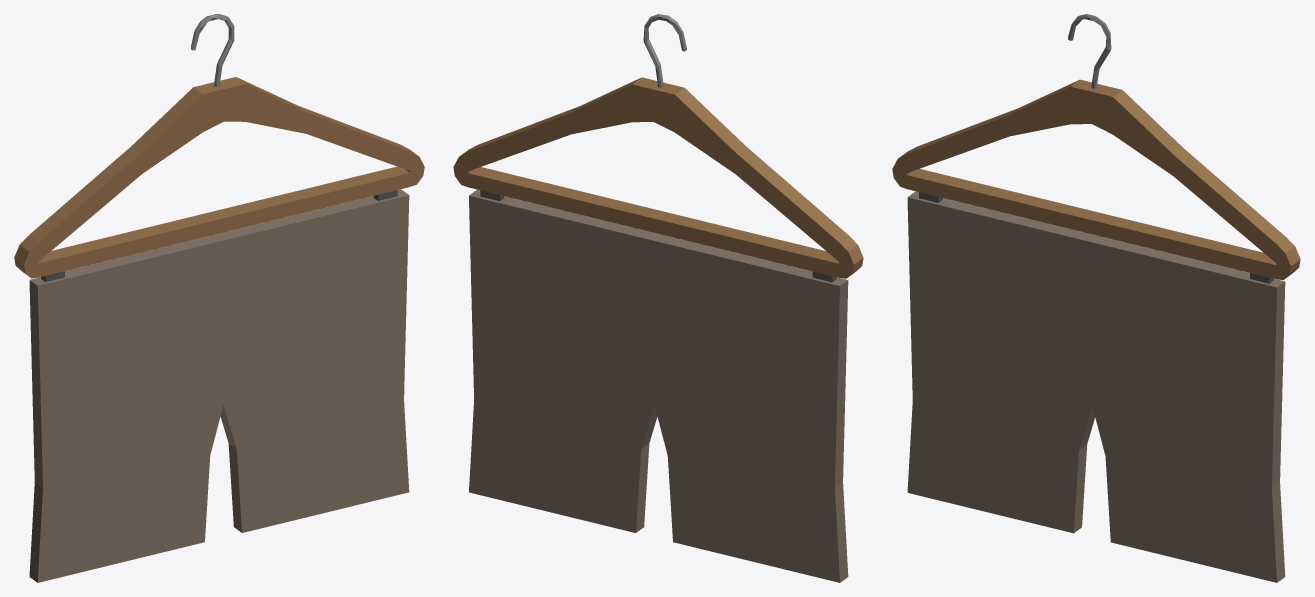
Rendered from Clothes8_C4.fbx.
The picture shows the model from 3 angles, left to right: view 1: azimuth 30°, elevation 25°; view 2: azimuth 150°, elevation 25°; view 3: azimuth 330°, elevation 25°; orthographic projection.
Visible parts, largest first — view 1: Clothes8_C4; view 2: Clothes8_C4; view 3: Clothes8_C4.
Boxes of the visible parts, x1=… form: Clothes8_C4: x1=14, y1=14, x2=424, y2=582; Clothes8_C4: x1=453, y1=14, x2=863, y2=582; Clothes8_C4: x1=892, y1=14, x2=1300, y2=582.
Size of the model in its own units: 42.14 by 52.38 by 1.76.
